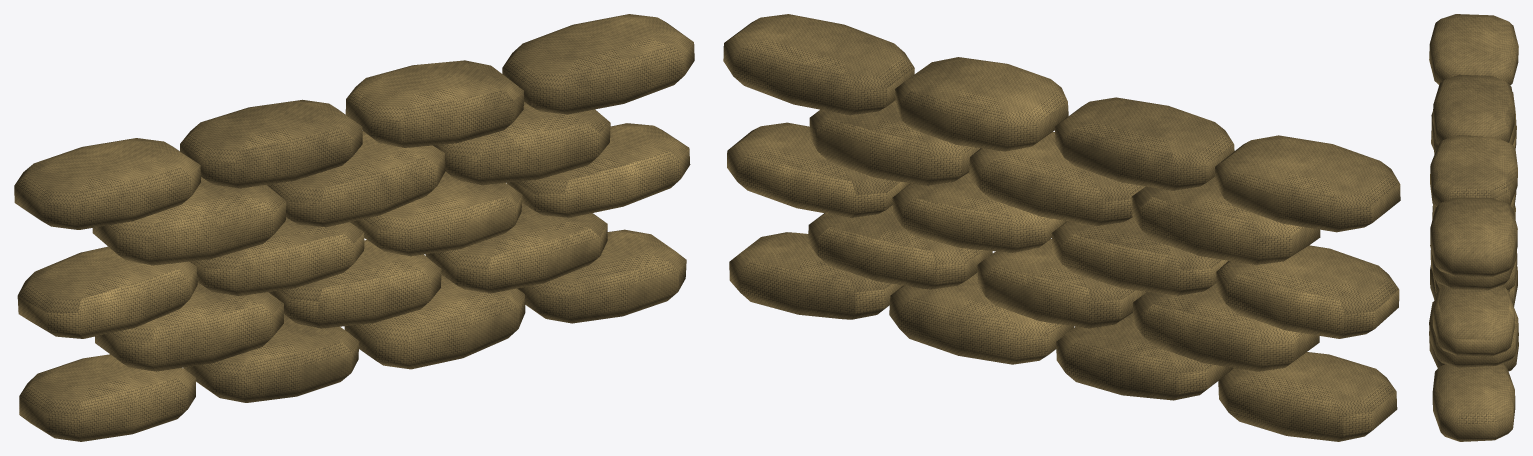
The model's file is SM_Sacos_Muro_2m_Alto.fbx.
3 views of the same model, side by side, from view 1: azimuth 30°, elevation 25°; view 2: azimuth 150°, elevation 25°; view 3: azimuth 270°, elevation 25° (orthographic). The views are drawn at different scales.
Visible parts, largest first — view 1: SM_Sacos_Muro_2m_Alto; view 2: SM_Sacos_Muro_2m_Alto; view 3: SM_Sacos_Muro_2m_Alto.
Part boxes in pixels (x1,y1,x2,y2): SM_Sacos_Muro_2m_Alto: [14, 14, 694, 441]; SM_Sacos_Muro_2m_Alto: [723, 14, 1400, 441]; SM_Sacos_Muro_2m_Alto: [1429, 14, 1518, 441].
Size of what is drawn, in the model's own units: 1.99 by 0.31 by 0.7944.
